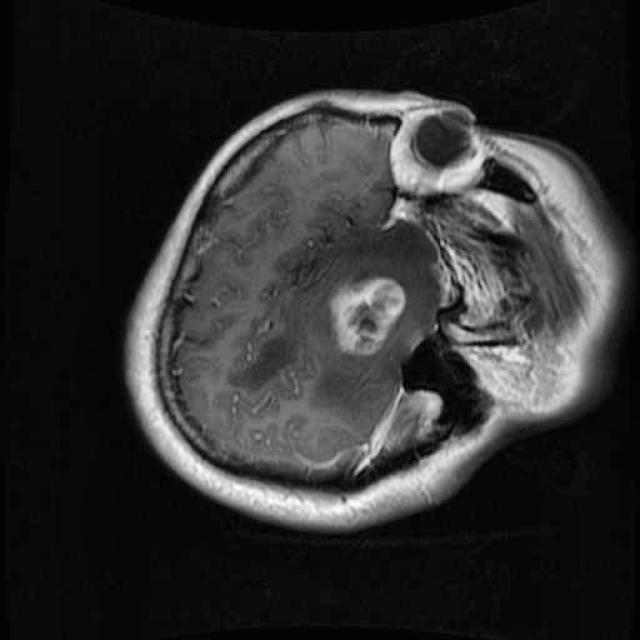Tumor: (313, 253, 417, 373)
